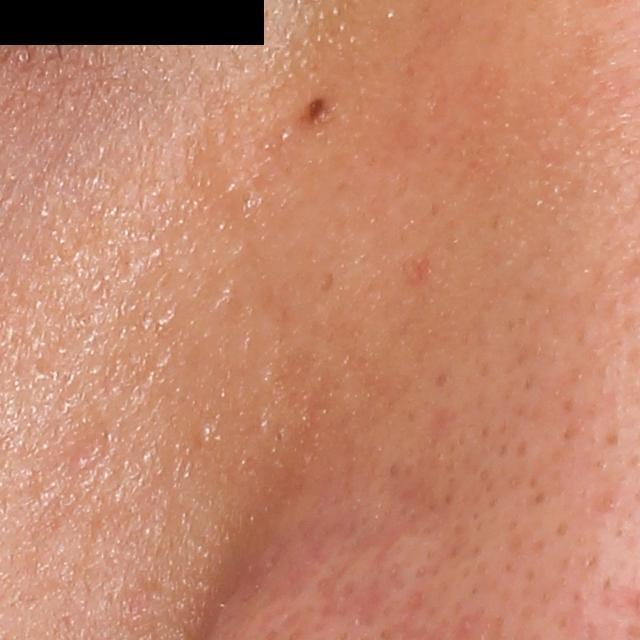comedo: (197, 422, 215, 444)
nevus: (300, 97, 326, 125)
